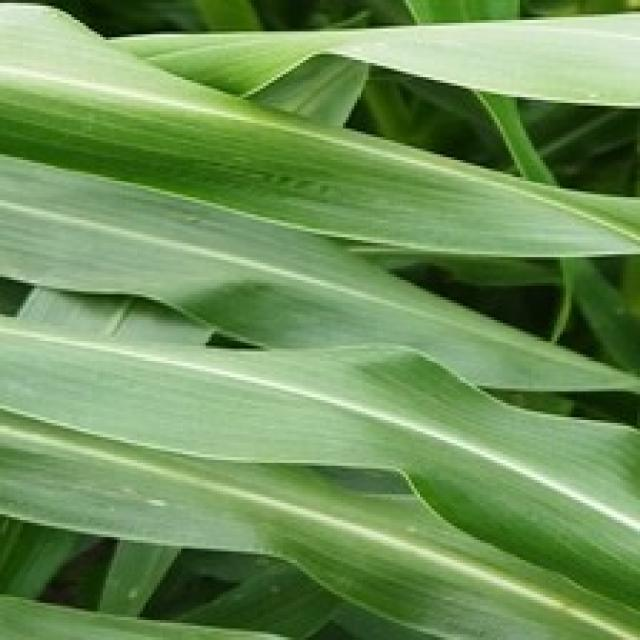Corn: (0, 0, 637, 637), (0, 123, 637, 411), (0, 0, 637, 263), (103, 0, 637, 117), (0, 589, 637, 637)
